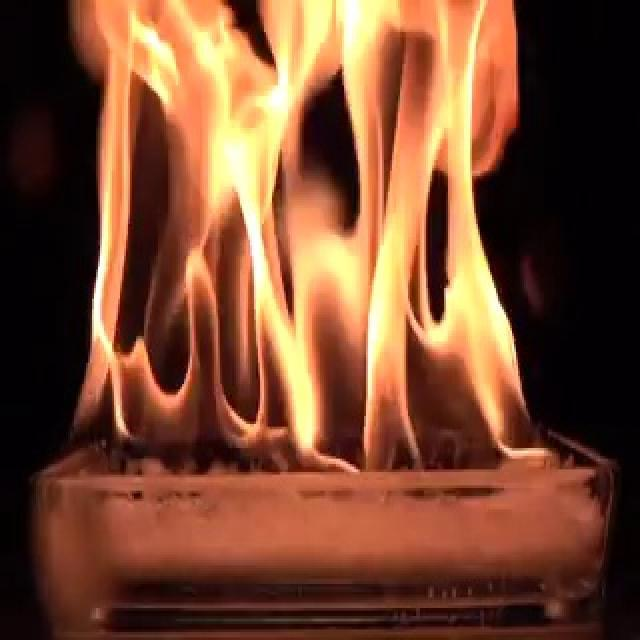Fire: (68, 2, 548, 473)
